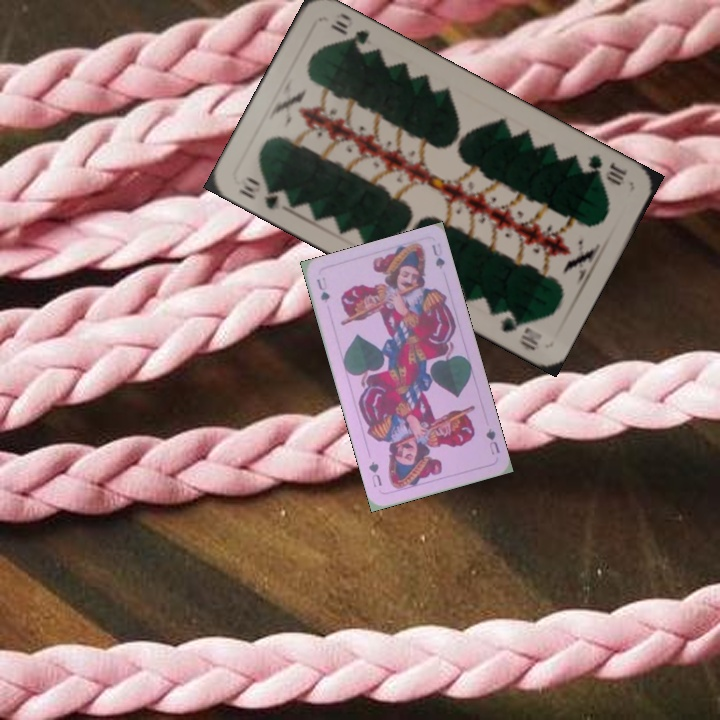G10: (573, 150, 630, 189), (234, 172, 281, 212)
GU: (481, 424, 503, 457), (312, 273, 332, 305)
